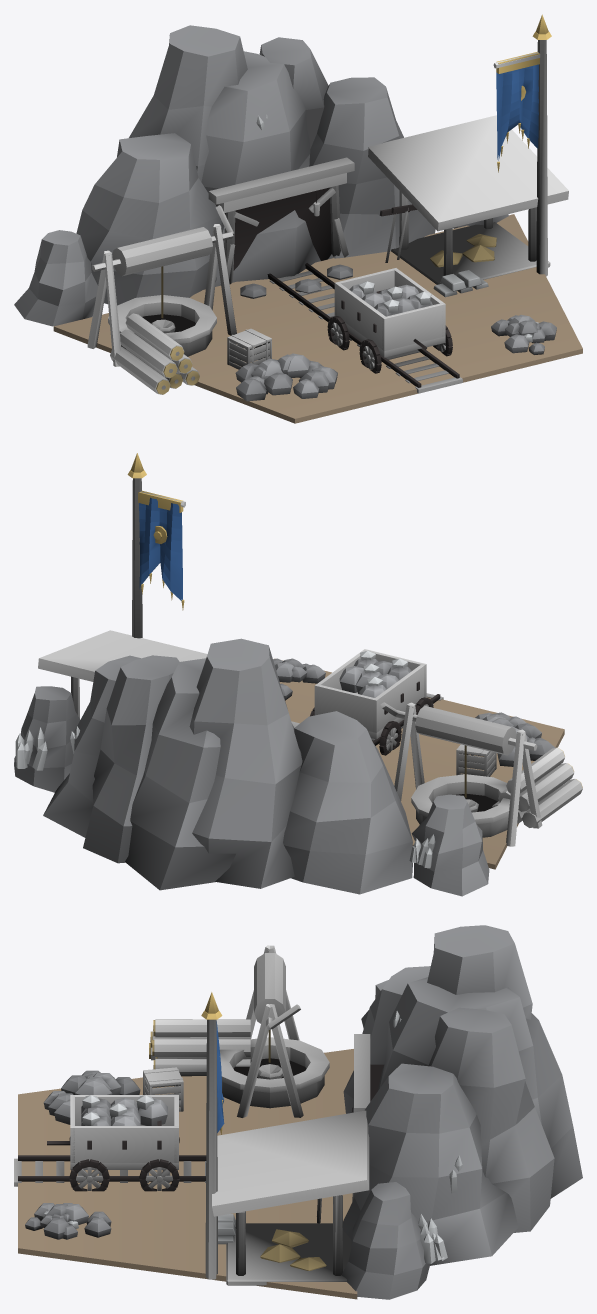
File: silver-mine-l1.glb
The picture shows the model from 3 angles, top to bottom: view 1: azimuth 30°, elevation 25°; view 2: azimuth 150°, elevation 25°; view 3: azimuth 270°, elevation 25°; orthographic projection. The views are drawn at different scales.
Visible parts, largest first — view 1: silver-mine-l1; view 2: silver-mine-l1; view 3: silver-mine-l1.
Part boxes in pixels (left/top/right/bottom): silver-mine-l1: left=14, top=14, right=582, bottom=423; silver-mine-l1: left=14, top=453, right=582, bottom=896; silver-mine-l1: left=14, top=925, right=582, bottom=1299.
Bounding box in the file's own units: 1.67 × 0.9277 × 1.58.
